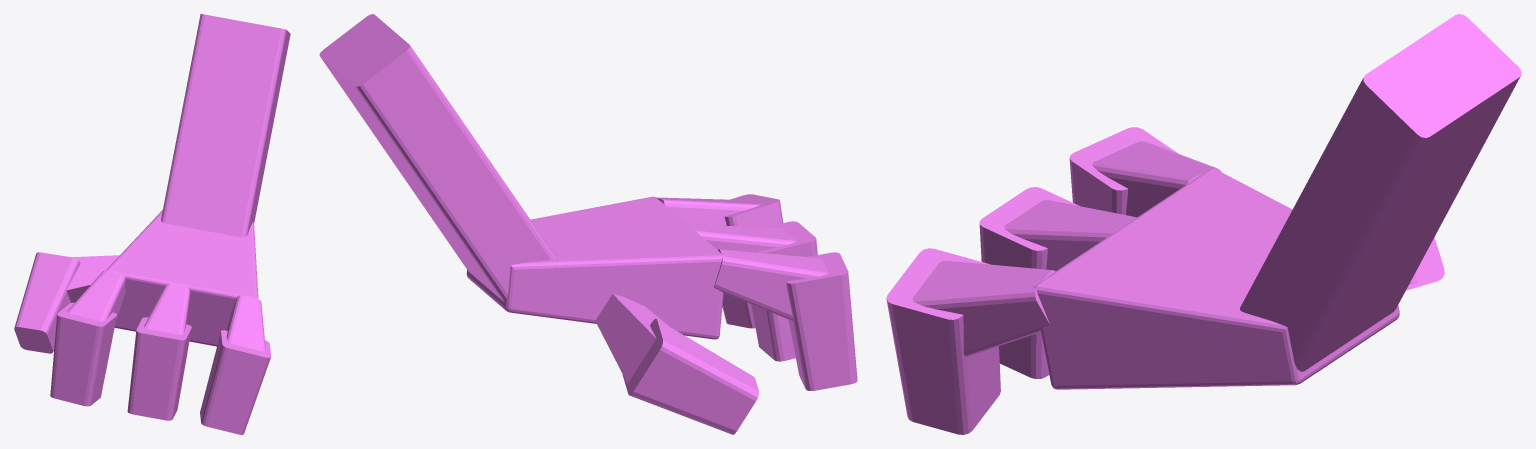
Rendered from LeftHand.fbx.
3 views of the same model, side by side, from view 1: azimuth 30°, elevation 25°; view 2: azimuth 150°, elevation 25°; view 3: azimuth 270°, elevation 25° (orthographic). The views are drawn at different scales.
Visible parts, largest first — view 1: LeftHand; view 2: LeftHand; view 3: LeftHand.
Part boxes in pixels (x1,y1,x2,y2): LeftHand: [14, 14, 290, 434]; LeftHand: [319, 14, 857, 434]; LeftHand: [886, 14, 1521, 434].
Bounding box in the file's own units: 836 × 707 × 802.
